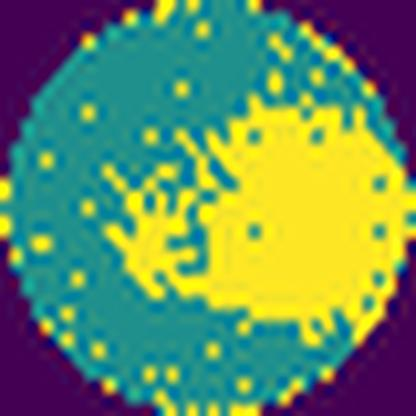Loc: (102, 92, 412, 345)
